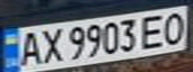0: (100, 19, 124, 56)
3: (118, 16, 142, 53)
9: (81, 21, 106, 59), (63, 22, 87, 61)
A: (12, 29, 45, 68)
E: (136, 11, 172, 50)
O: (157, 8, 193, 46)
X: (36, 25, 66, 64)
